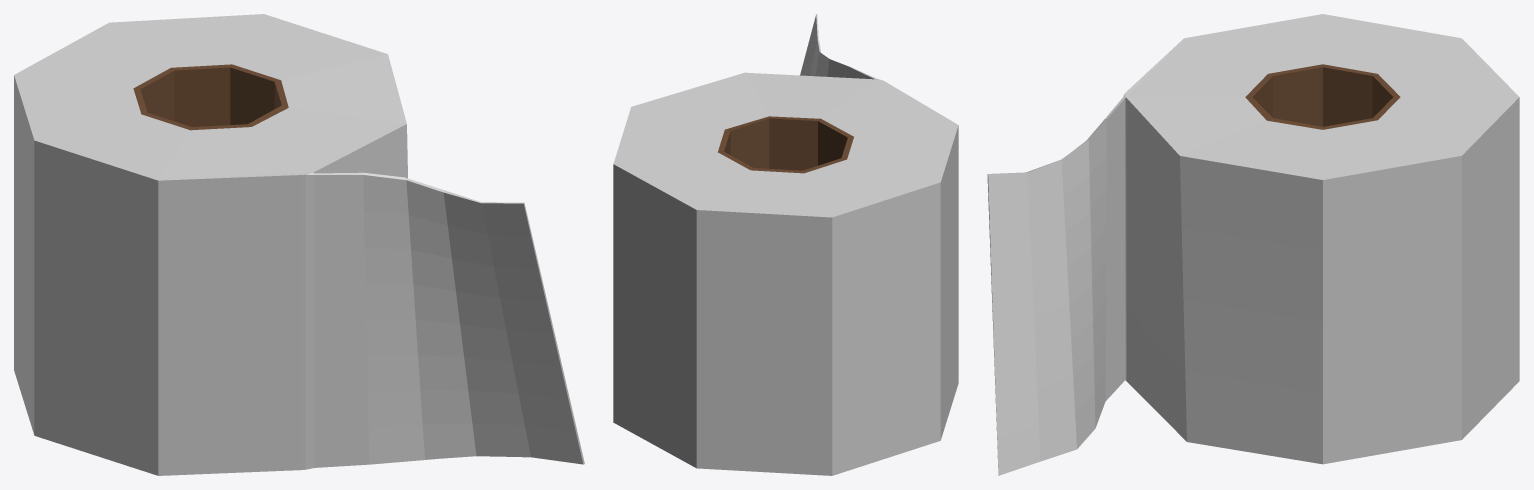
File: Papel.fbx
The picture shows the model from 3 angles, left to right: view 1: azimuth 30°, elevation 25°; view 2: azimuth 150°, elevation 25°; view 3: azimuth 270°, elevation 25°; orthographic projection. The views are drawn at different scales.
Visible parts, largest first — view 1: Cylinder.088; view 2: Cylinder.088; view 3: Cylinder.088.
Part boxes in pixels (left/top/right/bottom): Cylinder.088: left=14, top=14, right=584, bottom=475; Cylinder.088: left=613, top=14, right=958, bottom=475; Cylinder.088: left=987, top=14, right=1519, bottom=475.
Size of the model in its own units: 20.77 by 15.54 by 26.02.
